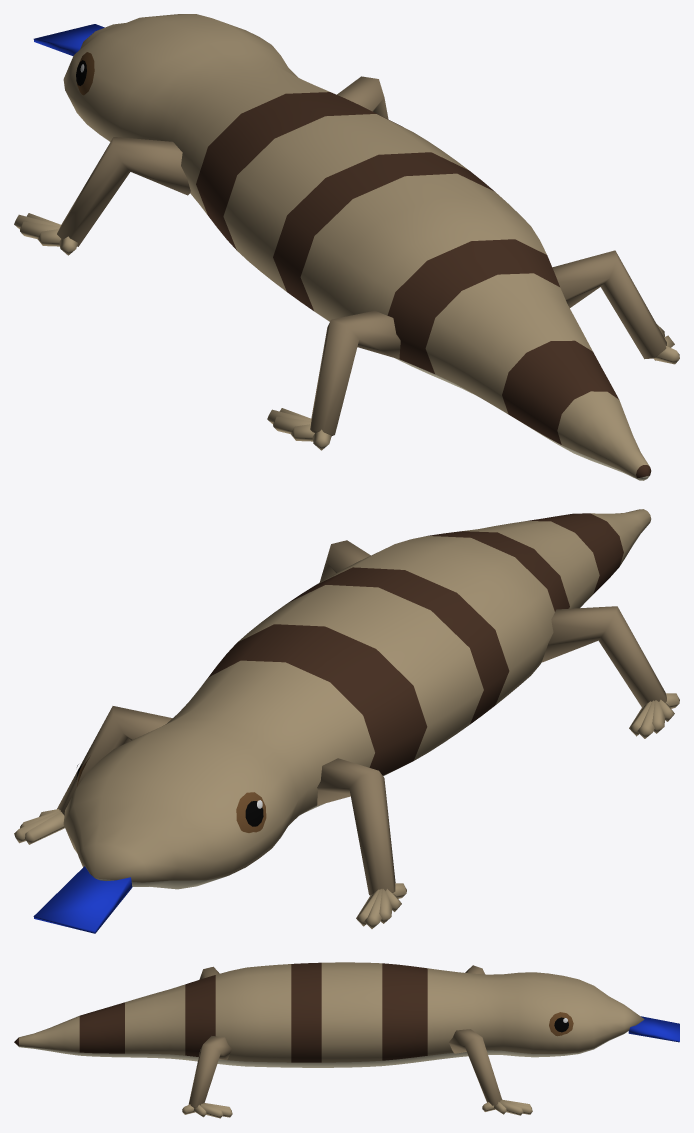
File: blue_tongue.glb
3 renders of one model, top to bottom at view 1: azimuth 30°, elevation 25°; view 2: azimuth 150°, elevation 25°; view 3: azimuth 270°, elevation 25°, orthographic. The views are drawn at different scales.
Parts seen in each view (by area): view 1: blue_tongue; view 2: blue_tongue; view 3: blue_tongue.
Part boxes in pixels (x1=…): blue_tongue: x1=14, y1=14, x2=679, y2=480; blue_tongue: x1=14, y1=509, x2=679, y2=933; blue_tongue: x1=14, y1=962, x2=679, y2=1118.
Bounding box in the file's own units: 1.02 × 0.4148 × 2.64.
